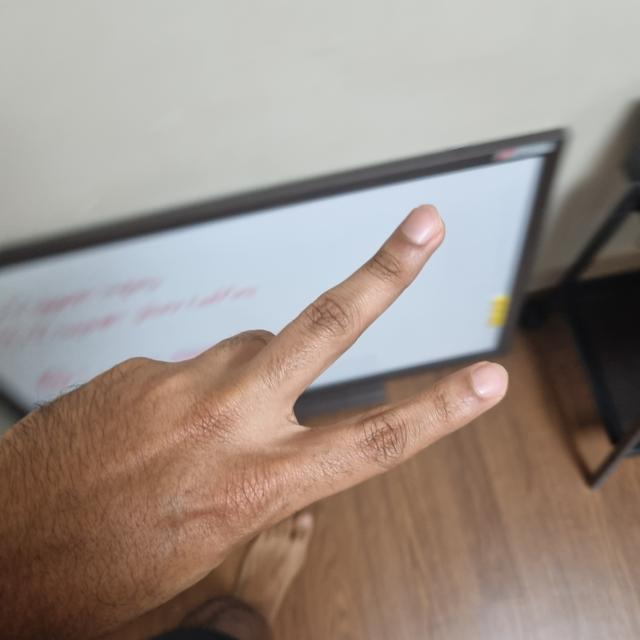Scissors: (0, 204, 506, 639)
